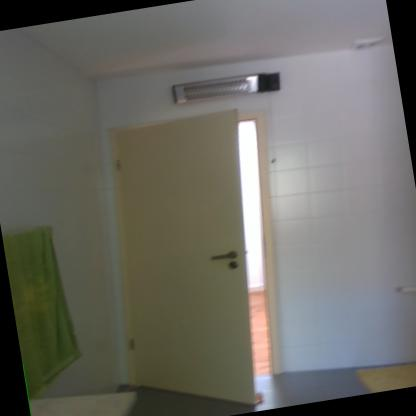semi: (82, 92, 321, 415)
